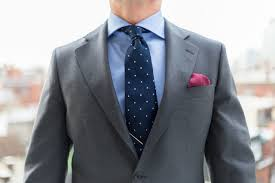F_M_suit jacket: (18, 14, 257, 183)
F_tie: (120, 27, 160, 161)
